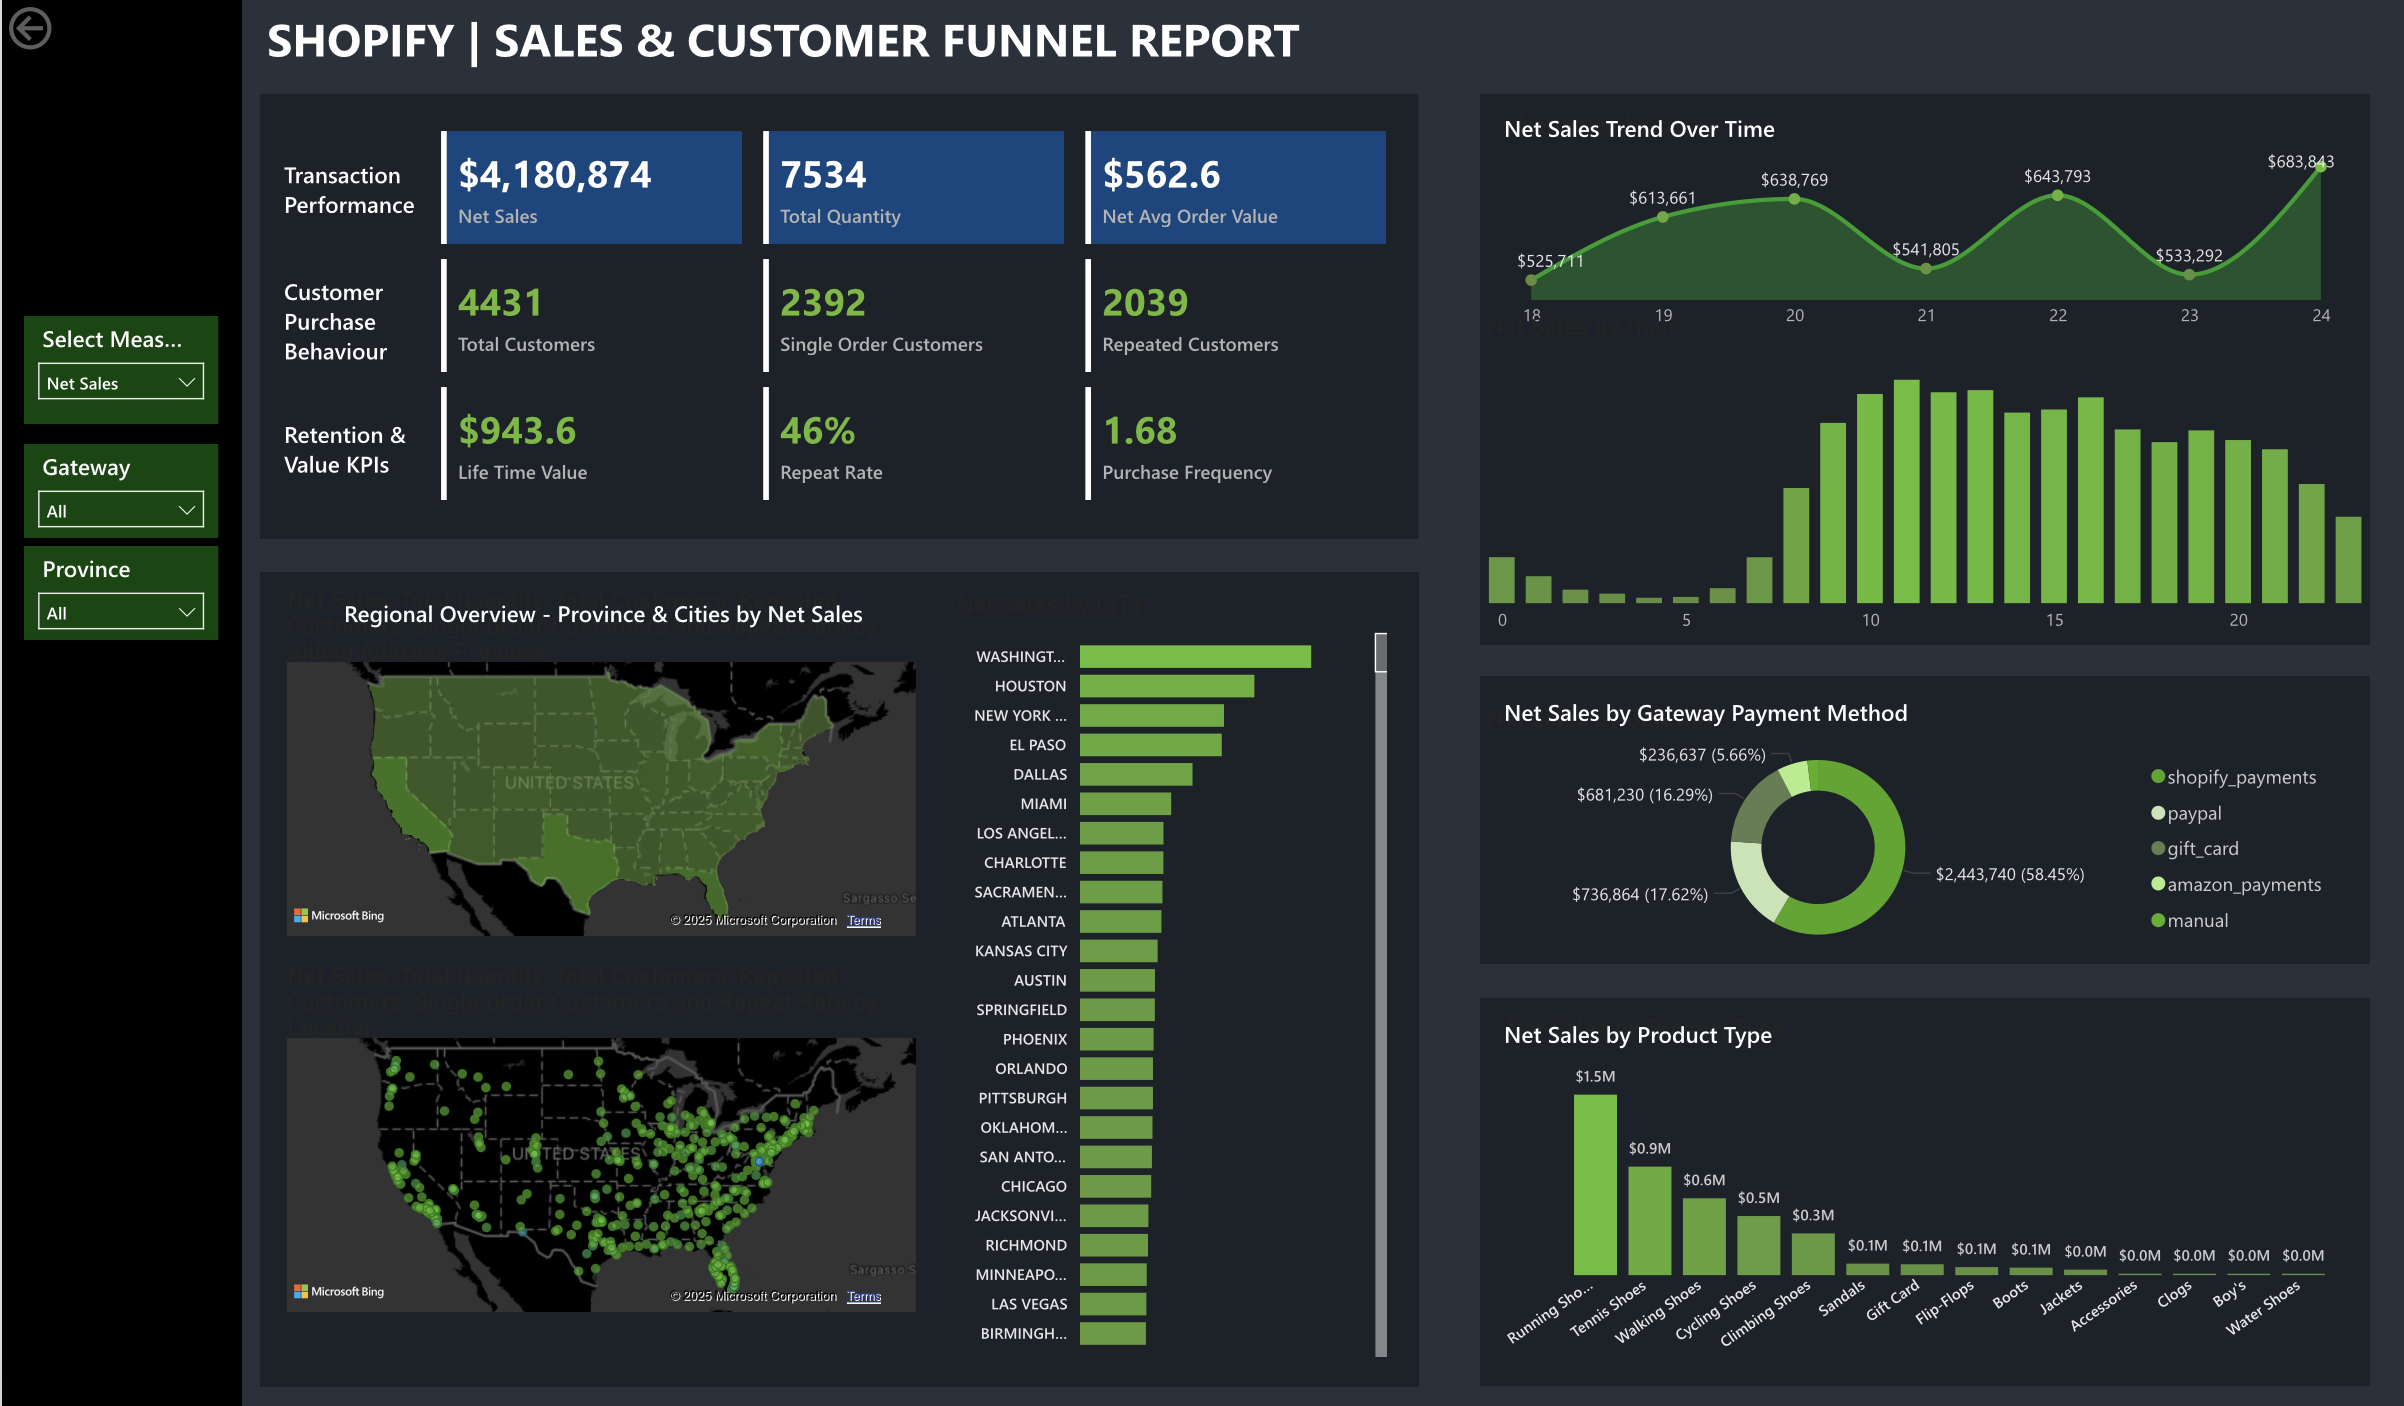

Layout of this report page (visuals, bound fields, positions):
{"tool":"powerbi","page":{"name":"Page 1","canvas":[1700,1000],"ordinal":0},"visuals":[{"type":"shape","box":[0,0,170,999.2],"z":0},{"type":"textbox","box":[182.6,0,769.5,66.7],"z":1000},{"type":"shape","box":[183,67,820,315],"z":2000},{"type":"cardVisual","fields":{"Data":["shopify_sales.Net Sales","shopify_sales.Total Quantity","shopify_sales.Net Avg Order Value"]},"box":[306.2,88.3,679.2,90.3],"z":3000},{"type":"cardVisual","fields":{"Data":["shopify_sales.Transaction Perf"]},"box":[182.6,80.5,159,98.2],"z":4000},{"type":"cardVisual","fields":{"Data":["shopify_sales.Total Customers","shopify_sales.Single Order Customers","shopify_sales.Repeat Customers"]},"box":[306.2,178.6,679.2,90.3],"z":5000},{"type":"cardVisual","fields":{"Data":["shopify_sales.Customer Purchase Behaviour"]},"box":[182.6,161,159,123.7],"z":6000},{"type":"cardVisual","fields":{"Data":["shopify_sales.Life Time Value","shopify_sales.Repeat Rate","shopify_sales.Purchase Frequency"]},"box":[306.2,268.9,679.2,90.3],"z":7000},{"type":"cardVisual","fields":{"Data":["shopify_sales.Retention & Value KPIs"]},"box":[182.6,251.3,159,123.7],"z":8000},{"type":"shape","box":[182.6,404.4,820.6,577.1],"z":9000},{"type":"filledMap","fields":{"Category":["shopify_sales.Billing Address Province"]},"box":[196.3,418.1,455,250],"z":10000},{"type":"slicer","fields":{"Values":["Select Measure.Select Measure"]},"box":[15.7,223.8,137.4,76.6],"z":11000},{"type":"actionButton","box":[0,0,100,40],"z":12000},{"type":"map","fields":{"Category":["shopify_sales.Location"]},"box":[196.3,683.1,455,250],"z":13000},{"type":"clusteredBarChart","fields":{"Y":["shopify_sales.Net Sales"],"Category":["shopify_sales.CITY"]},"box":[671.4,420.1,314.1,545.7],"z":14000},{"type":"cardVisual","fields":{"Data":["shopify_sales.Map Title"]},"box":[225.8,380.8,420.1,98.2],"z":15000},{"type":"shape","box":[1046.3,66.7,630.1,390.6],"z":16000},{"type":"areaChart","fields":{"Y":["shopify_sales.Net Sales"],"Category":["shopify_sales.Invoice Date.Variation.Date Hierarchy.Day"]},"box":[1067.9,80.5,588.9,161],"z":17000},{"type":"columnChart","fields":{"Y":["shopify_sales.Net Sales"],"Category":["shopify_sales.Hour"]},"box":[1046.3,223.8,630.1,233.6],"z":18000},{"type":"cardVisual","fields":{"Data":["shopify_sales.Trend Title"]},"box":[1046.3,53,241.5,68.7],"z":19000},{"type":"shape","box":[1046.3,479,630.1,204.2],"z":20000},{"type":"donutChart","fields":{"Y":["shopify_sales.Net Sales"],"Category":["shopify_sales.Gateway"]},"box":[1046.3,500.6,610.5,182.6],"z":21000},{"type":"cardVisual","fields":{"Data":["shopify_sales.Gateway Title"]},"box":[1046.3,465.2,351.4,68.7],"z":22000},{"type":"shape","box":[1046.3,706.7,630.1,274.8],"z":23000},{"type":"columnChart","fields":{"Y":["shopify_sales.Net Sales"],"Category":["shopify_sales.Product Type"]},"box":[1060,720.4,604.6,247.3],"z":24000},{"type":"cardVisual","fields":{"Data":["shopify_sales.Product Title"]},"box":[1046.3,693,351.4,68.7],"z":25000},{"type":"slicer","fields":{"Values":["shopify_sales.Gateway"]},"box":[15.7,314.1,137.4,66.7],"z":26000},{"type":"slicer","fields":{"Values":["shopify_sales.Billing Address Province"]},"box":[15.7,386.7,137.4,66.7],"z":27000}]}

Visuals, with their boxes on the page's 1700x1000 design canvas (x1, y1, x2, y2). These are canvas units, not pixel positions in the 2404x1406 screenshot, which may show the page scaled, cropped or inside an application window:
shape: [x1=0, y1=0, x2=170, y2=999]
textbox: [x1=183, y1=0, x2=952, y2=67]
shape: [x1=183, y1=67, x2=1003, y2=382]
cardVisual - shopify_sales.Net Sales x shopify_sales.Total Quantity: [x1=306, y1=88, x2=985, y2=179]
cardVisual - shopify_sales.Transaction Perf: [x1=183, y1=80, x2=342, y2=179]
cardVisual - shopify_sales.Total Customers x shopify_sales.Single Order Customers: [x1=306, y1=179, x2=985, y2=269]
cardVisual - shopify_sales.Customer Purchase Behaviour: [x1=183, y1=161, x2=342, y2=285]
cardVisual - shopify_sales.Life Time Value x shopify_sales.Repeat Rate: [x1=306, y1=269, x2=985, y2=359]
cardVisual - shopify_sales.Retention & Value KPIs: [x1=183, y1=251, x2=342, y2=375]
shape: [x1=183, y1=404, x2=1003, y2=982]
filledMap - shopify_sales.Billing Address Province: [x1=196, y1=418, x2=651, y2=668]
slicer - Select Measure.Select Measure: [x1=16, y1=224, x2=153, y2=300]
actionButton: [x1=0, y1=0, x2=100, y2=40]
map - shopify_sales.Location: [x1=196, y1=683, x2=651, y2=933]
clusteredBarChart - shopify_sales.Net Sales x shopify_sales.CITY: [x1=671, y1=420, x2=986, y2=966]
cardVisual - shopify_sales.Map Title: [x1=226, y1=381, x2=646, y2=479]
shape: [x1=1046, y1=67, x2=1676, y2=457]
areaChart - shopify_sales.Net Sales x shopify_sales.Invoice Date.Variation.Date Hierarchy.Day: [x1=1068, y1=80, x2=1657, y2=242]
columnChart - shopify_sales.Net Sales x shopify_sales.Hour: [x1=1046, y1=224, x2=1676, y2=457]
cardVisual - shopify_sales.Trend Title: [x1=1046, y1=53, x2=1288, y2=122]
shape: [x1=1046, y1=479, x2=1676, y2=683]
donutChart - shopify_sales.Net Sales x shopify_sales.Gateway: [x1=1046, y1=501, x2=1657, y2=683]
cardVisual - shopify_sales.Gateway Title: [x1=1046, y1=465, x2=1398, y2=534]
shape: [x1=1046, y1=707, x2=1676, y2=982]
columnChart - shopify_sales.Net Sales x shopify_sales.Product Type: [x1=1060, y1=720, x2=1665, y2=968]
cardVisual - shopify_sales.Product Title: [x1=1046, y1=693, x2=1398, y2=762]
slicer - shopify_sales.Gateway: [x1=16, y1=314, x2=153, y2=381]
slicer - shopify_sales.Billing Address Province: [x1=16, y1=387, x2=153, y2=453]
